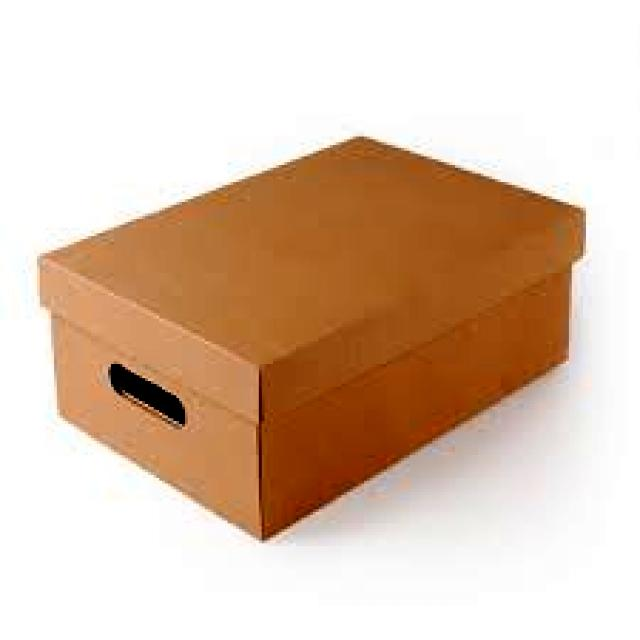Cardboard: (32, 128, 586, 546)
